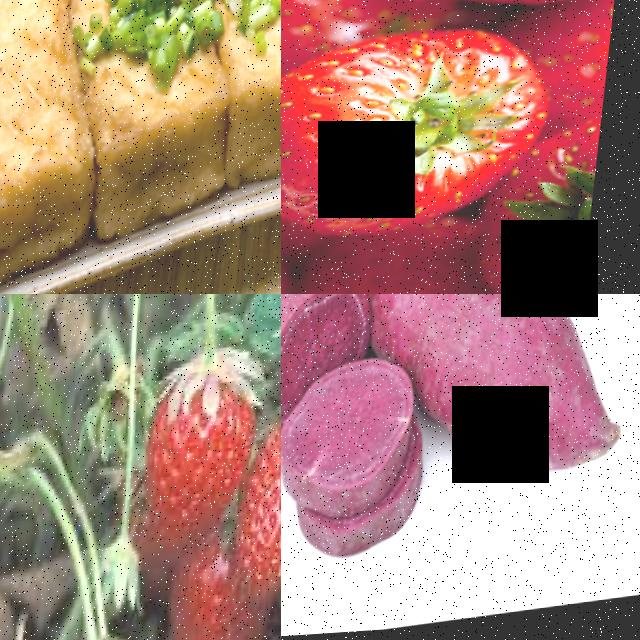strawberry: (281, 20, 565, 257), (145, 363, 276, 560), (511, 133, 610, 294), (247, 436, 281, 608)
sweet potato: (281, 294, 640, 514), (281, 352, 434, 521), (281, 294, 391, 448)
tofu: (0, 20, 106, 294), (88, 66, 239, 237), (221, 19, 281, 187)
